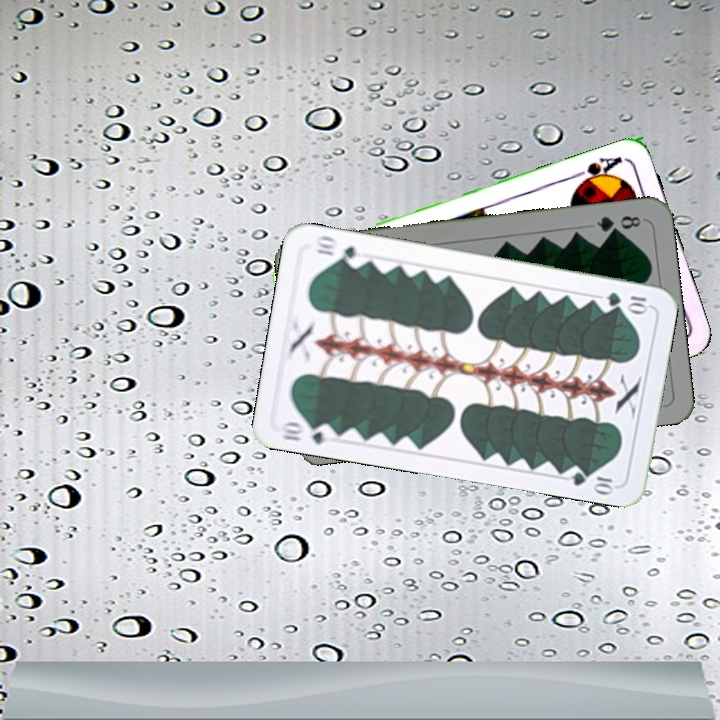G10: (277, 417, 337, 447), (603, 288, 652, 314)
G8: (592, 211, 644, 235)
SA: (569, 152, 625, 190)
